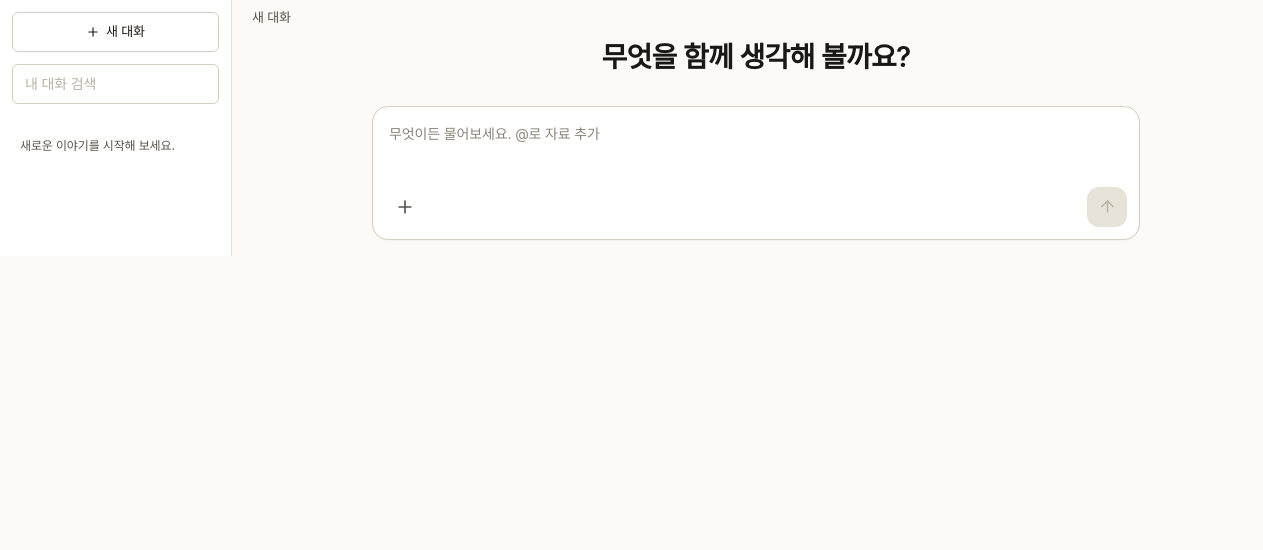
자유 채팅 입력창 › 자료 없는 후속 질문은 같은 대화에 이어지고 앞선 답변을 유지한다
In the text box named "연구 질문": (756, 150) [385, 118, 1127, 182], type "연구 계획을 같이 세우자"
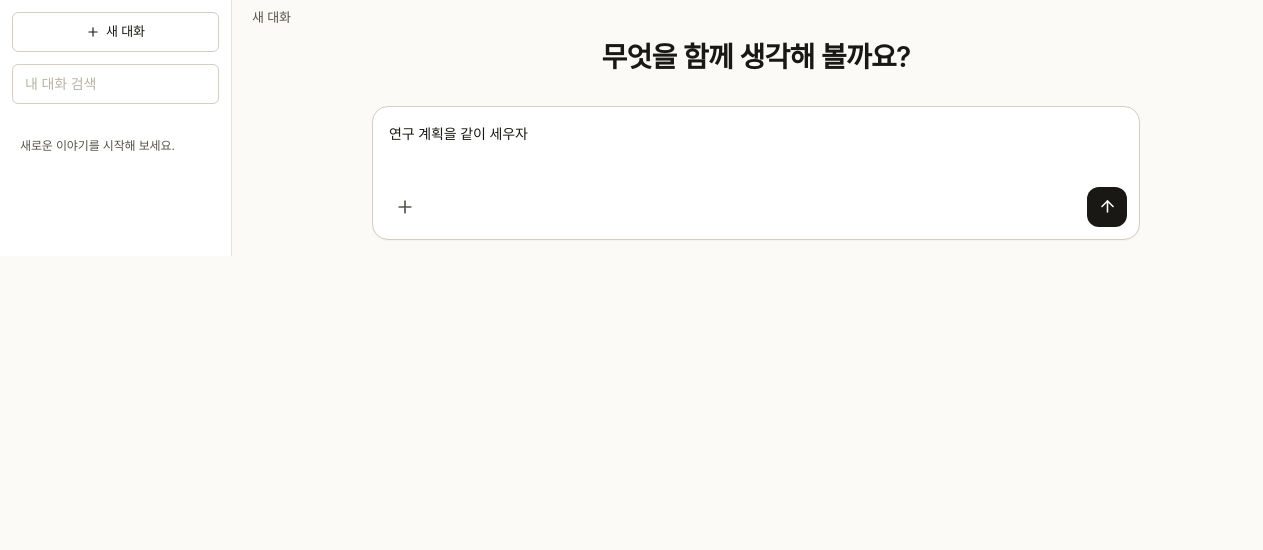
Click the button named "보내기": (1107, 206) [1087, 186, 1127, 226]
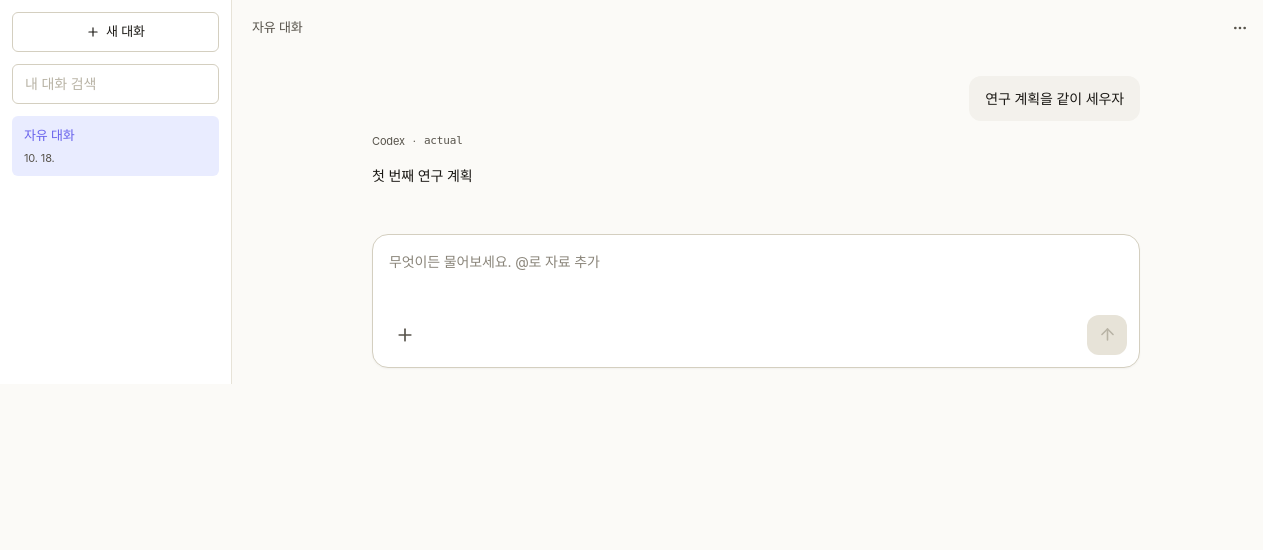
expect the text "첫 번째 연구 계획" is shown: met, box [372, 166, 473, 184]
In the text box named "연구 질문": (756, 278) [385, 246, 1127, 310], type "그 계획의 첫 실험을 구체화해줘"
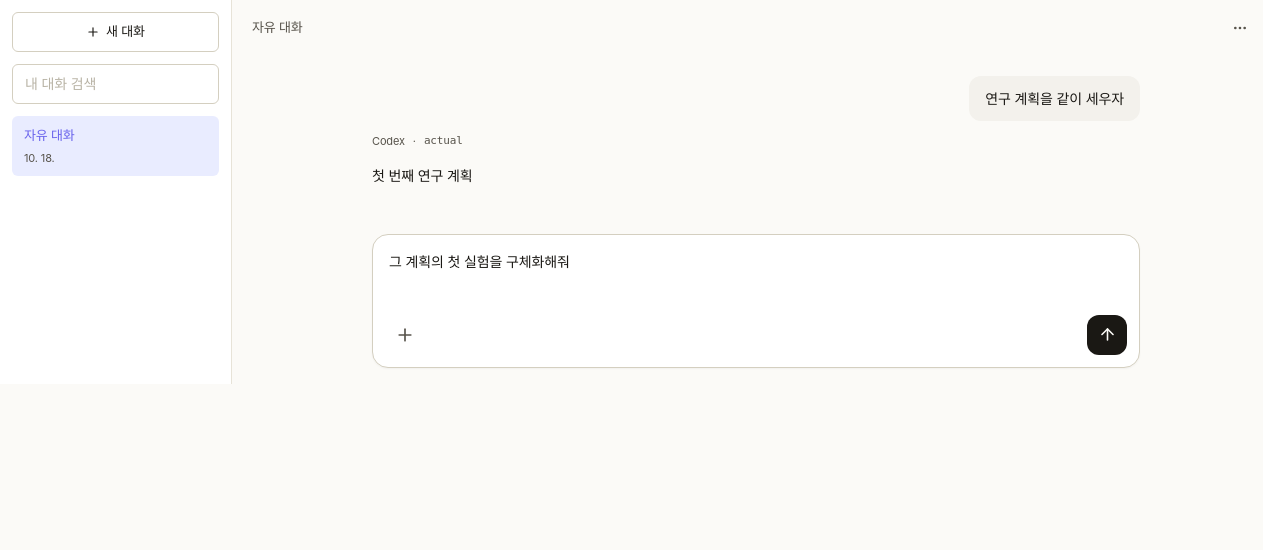
Click the button named "보내기": (1107, 334) [1087, 314, 1127, 354]
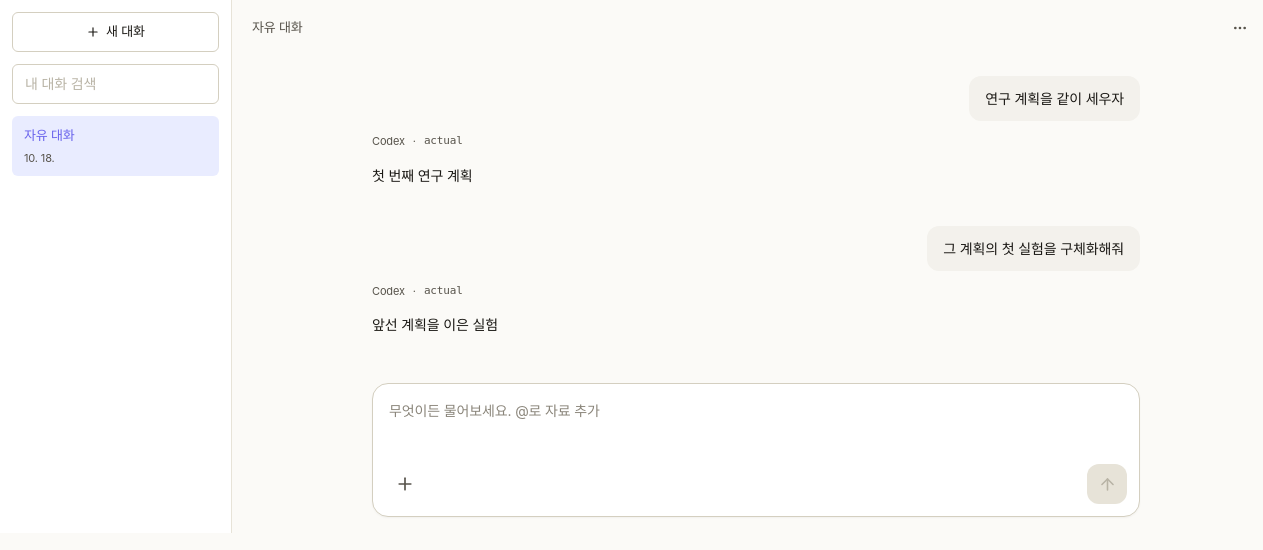
expect the text "첫 번째 연구 계획" is shown: met, box [372, 166, 473, 184]
expect the text "앞선 계획을 이은 실험" is shown: met, box [372, 316, 498, 333]
